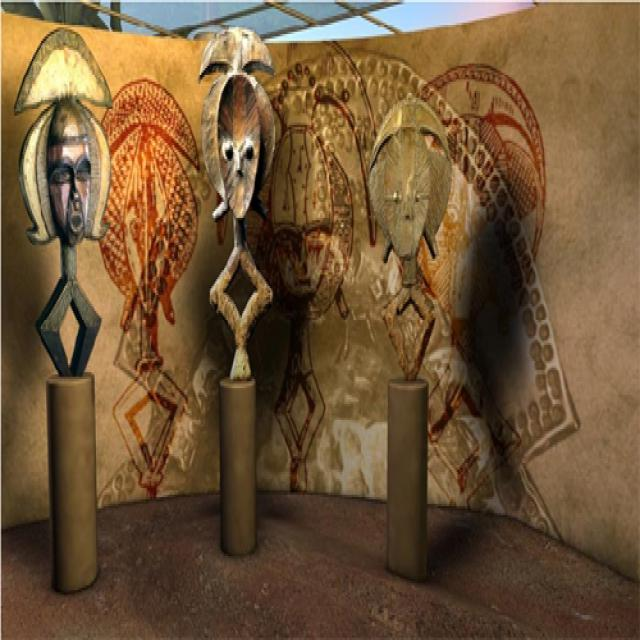ceiling beam: (1, 0, 535, 39)
floor -X: (1, 488, 637, 635)
pedestal sink: (45, 368, 97, 590), (385, 372, 428, 574), (218, 370, 255, 551)
sculpture -X: (13, 23, 110, 377), (197, 25, 274, 379), (366, 95, 449, 381)
wall clock: (1, 0, 637, 579)
